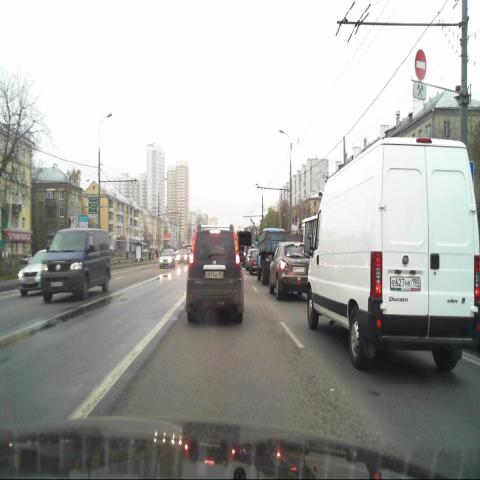8_5_2: (411, 81, 428, 100)
